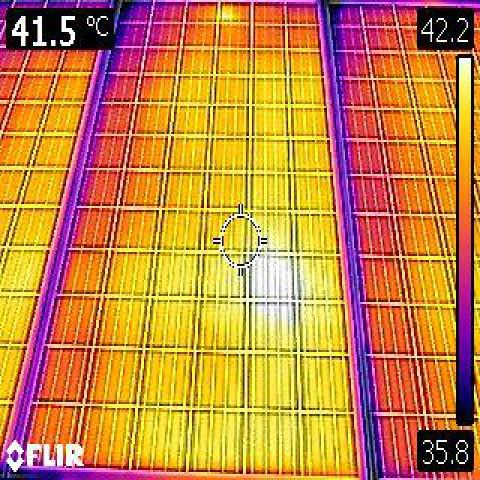fault: (250, 253, 293, 302)
